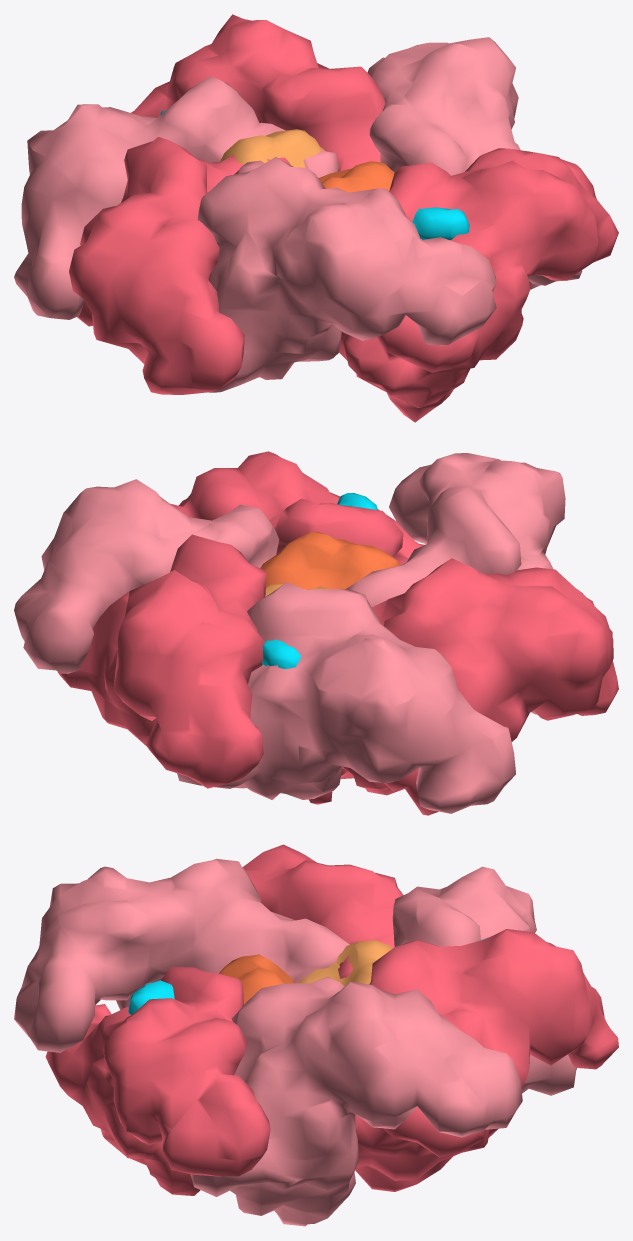
File: telophase_pdb.glb
The picture shows the model from 3 angles, top to bottom: view 1: azimuth 30°, elevation 25°; view 2: azimuth 150°, elevation 25°; view 3: azimuth 270°, elevation 25°; orthographic projection.
Parts seen in each view (by area): view 1: te_spastin_5, te_spastin_6, te_spastin_4, te_spastin_3, te_spastin_2, te_spastin_1, te_baf_a, te_baf_b, te_baf_dna; view 2: te_spastin_3, te_spastin_2, te_spastin_4, te_spastin_1, te_spastin_5, te_spastin_6, te_baf_b, te_baf_dna; view 3: te_spastin_1, te_spastin_5, te_spastin_6, te_spastin_2, te_spastin_4, te_spastin_3, te_baf_a, te_baf_b, te_baf_dna.
Boxes of the visible parts, box(x1,y1,x2,y2) form: te_spastin_5: box(197, 157, 496, 392); te_spastin_6: box(339, 148, 618, 422); te_spastin_4: box(69, 137, 290, 394); te_spastin_3: box(14, 76, 339, 319); te_spastin_2: box(131, 14, 385, 171); te_spastin_1: box(367, 37, 582, 289); te_baf_a: box(219, 129, 325, 167); te_baf_b: box(318, 161, 394, 192); te_baf_dna: box(160, 110, 469, 240); te_spastin_3: box(177, 582, 515, 813); te_spastin_2: box(57, 534, 266, 788); te_spastin_4: box(308, 558, 618, 815); te_spastin_1: box(14, 479, 279, 673); te_spastin_5: box(346, 453, 565, 714); te_spastin_6: box(171, 451, 424, 565); te_baf_b: box(260, 532, 399, 589); te_baf_dna: box(262, 493, 377, 668); te_spastin_1: box(190, 977, 522, 1226); te_spastin_5: box(14, 858, 349, 1052); te_spastin_6: box(45, 967, 270, 1195); te_spastin_2: box(355, 929, 618, 1191); te_spastin_4: box(242, 844, 403, 978); te_spastin_3: box(392, 866, 576, 1095); te_baf_a: box(298, 940, 392, 986); te_baf_b: box(219, 954, 293, 1004); te_baf_dna: box(128, 937, 487, 1014).
Bounding box in the file's own units: 12.44 × 6.6 × 13.02.
